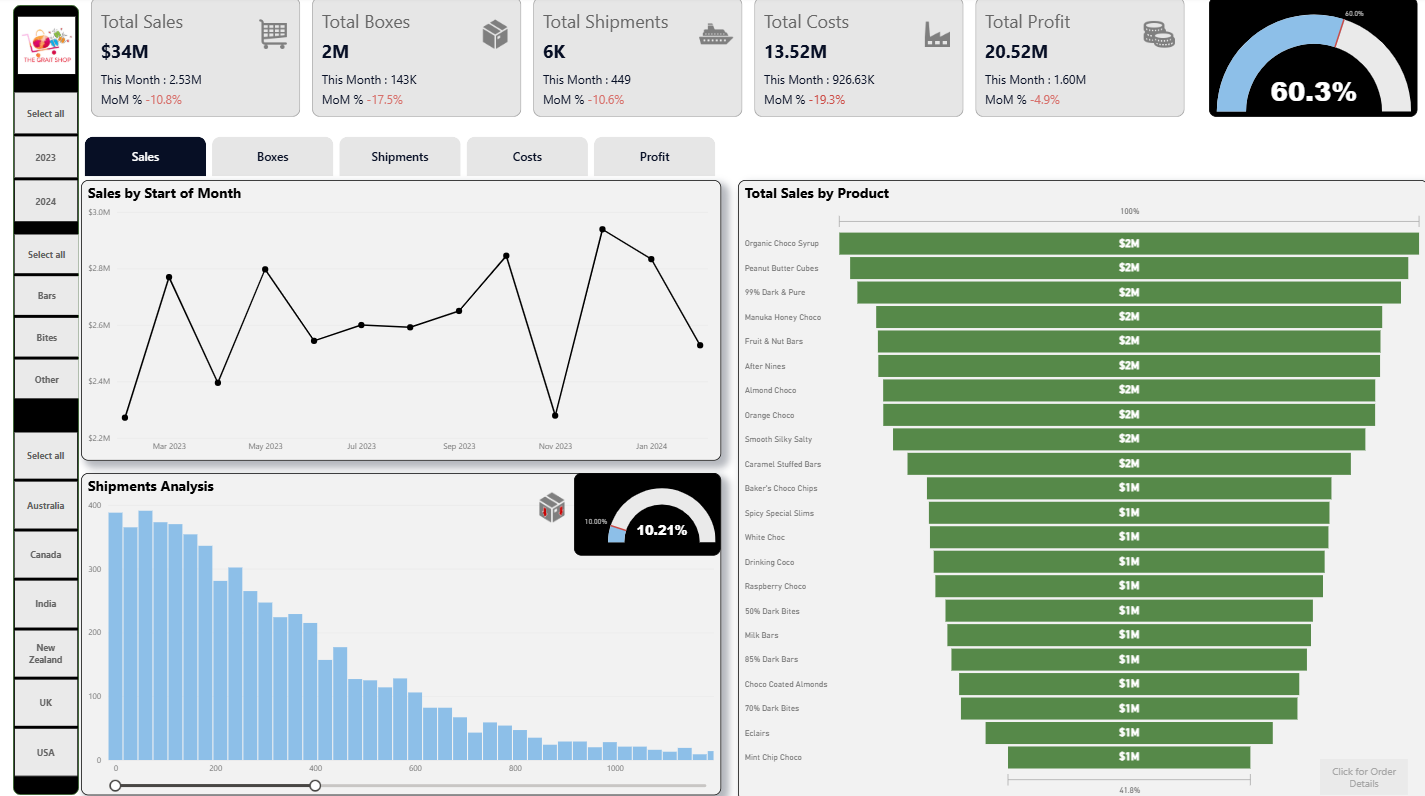

The page's visual inventory and layout, read from the dashboard file:
{"tool":"powerbi","page":{"name":"Summary","canvas":[1920,1080],"ordinal":0},"visuals":[{"type":"shape","box":[18.8,10.7,88.7,1061.2],"z":0},{"type":"cardVisual","fields":{"Data":["_Measures.Total Sales","_Measures.Total Boxes","_Measures.Total Shipments","_Measures.Total Costs","_Measures.Total Profit"]},"box":[123.3,0,1473.3,161.1],"z":1000},{"type":"gauge","fields":{"Y":["_Measures.Profit %"]},"box":[1625.6,0,280,161.1],"z":2000},{"type":"advancedSlicerVisual","fields":{"Values":["Measure Selector.Measure Selector"]},"box":[110.1,182.7,859.7,63.1],"z":3000},{"type":"image","box":[9.4,21.5,108.8,87.3],"z":4000},{"type":"columnChart","title":"Shipments Analysis","fields":{"Category":["shipments.Boxes (bins)"],"Y":["_Measures.Total Shipments"]},"box":[110.1,639.4,859.7,432.5],"z":5000},{"type":"gauge","fields":{"Y":["_Measures.LBS %"]},"box":[772.4,639.4,197.5,111.5],"z":6000},{"type":"lineChart","fields":{"Y":["_Measures.Total Sales"],"Category":["calendar.Start of Month"]},"box":[110.1,245.8,859.7,377.5],"z":7000},{"type":"image","box":[713.3,654.2,59.1,63.1],"z":8000},{"type":"funnel","fields":{"Category":["shipments.Product"],"Y":["_Measures.Total Sales"]},"box":[992.7,245.8,926.9,834.2],"z":9000},{"type":"actionButton","box":[1774.5,1023.6,118.2,48.4],"z":10000},{"type":"slicer","fields":{"Values":["calendar.Year"]},"box":[0,126.3,123.6,177.3],"z":11000},{"type":"slicer","fields":{"Values":["products.Category"]},"box":[0,317,126.3,224.3],"z":12000},{"type":"slicer","fields":{"Values":["shipments.Geography"]},"box":[0,583,123.6,464.8],"z":13000}]}

Visuals, with their boxes in screenshot pixels (x1, y1, x2, y2), scaled from the page's 1920x1080 canvas onto the 1425x796 screenshot:
shape: 14:8:80:790
cardVisual - _Measures.Total Sales x _Measures.Total Boxes: 92:0:1185:119
gauge - _Measures.Profit %: 1206:0:1414:119
advancedSlicerVisual - Measure Selector.Measure Selector: 82:135:720:181
image: 7:16:88:80
"Shipments Analysis" columnChart: 82:471:720:790
gauge - _Measures.LBS %: 573:471:720:553
lineChart - _Measures.Total Sales x calendar.Start of Month: 82:181:720:459
image: 529:482:573:529
funnel - shipments.Product x _Measures.Total Sales: 737:181:1424:795
actionButton: 1317:754:1405:790
slicer - calendar.Year: 0:93:92:224
slicer - products.Category: 0:234:94:399
slicer - shipments.Geography: 0:430:92:772
